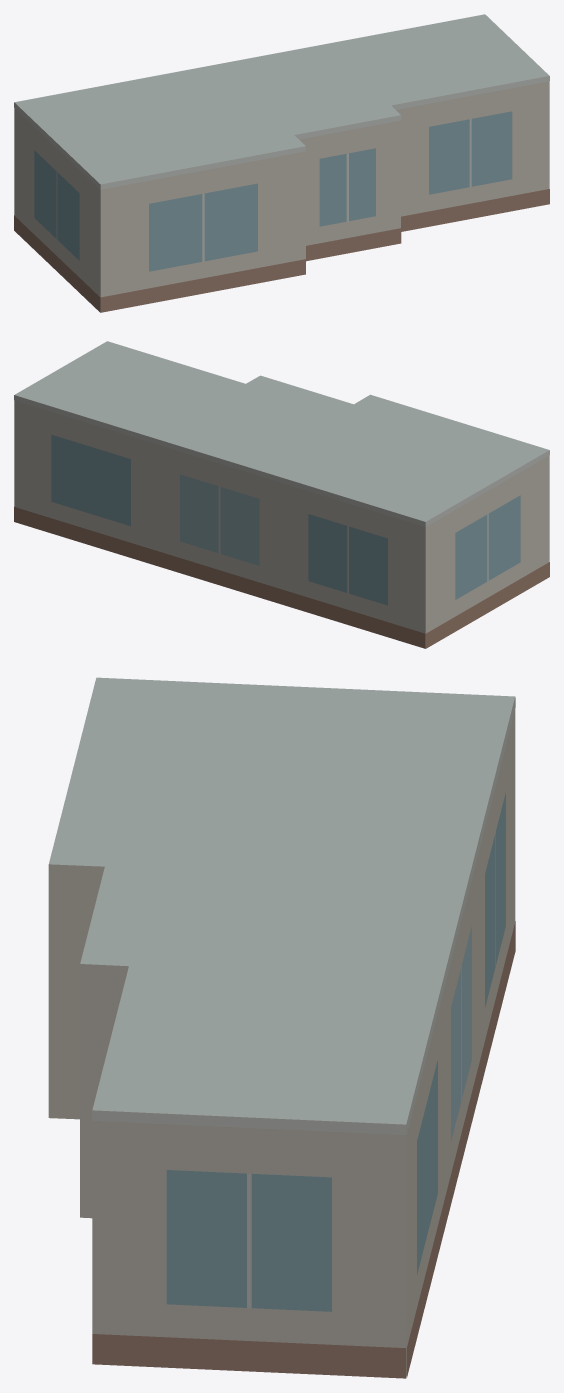
Rendered from survey-upis-32813602.glb.
The picture shows the model from 3 angles, top to bottom: view 1: azimuth 30°, elevation 25°; view 2: azimuth 150°, elevation 25°; view 3: azimuth 270°, elevation 25°; orthographic projection. The views are drawn at different scales.
Visible parts, largest first — view 1: survey-upis-32813602.tmp; view 2: survey-upis-32813602.tmp; view 3: survey-upis-32813602.tmp.
Boxes of the visible parts, bbox=[...] form: survey-upis-32813602.tmp: bbox=[14, 14, 549, 312]; survey-upis-32813602.tmp: bbox=[14, 341, 549, 648]; survey-upis-32813602.tmp: bbox=[48, 677, 515, 1378].
Bounding box in the file's own units: 11.54 × 3.05 × 5.09.
